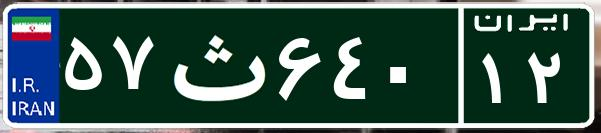0: (385, 28, 445, 110)
1: (475, 38, 525, 113)
2: (525, 38, 570, 115)
4: (330, 28, 385, 110)
5: (57, 26, 110, 107)
6: (273, 28, 330, 110)
7: (110, 28, 158, 105)
ث: (158, 15, 273, 115)
